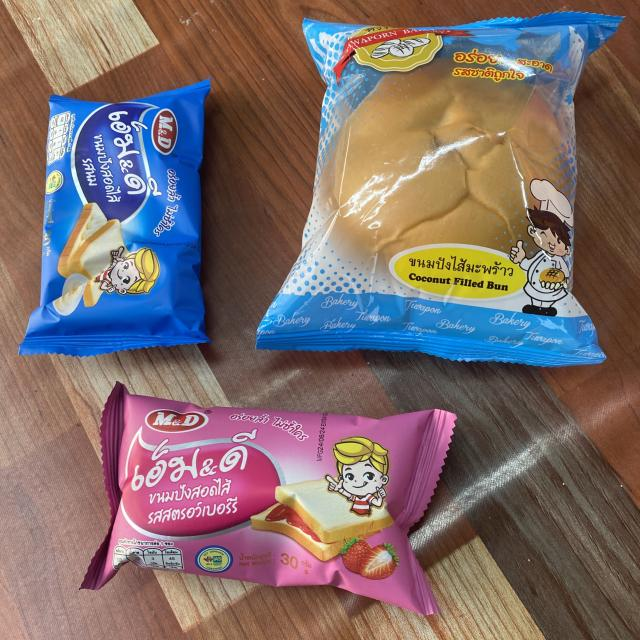plastik: (256, 12, 621, 366), (81, 384, 455, 615), (19, 80, 210, 356)
